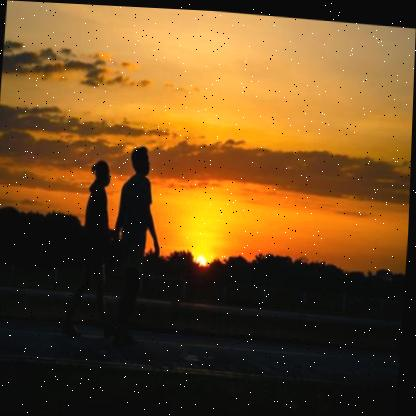person: (102, 140, 174, 359), (61, 156, 125, 352)
